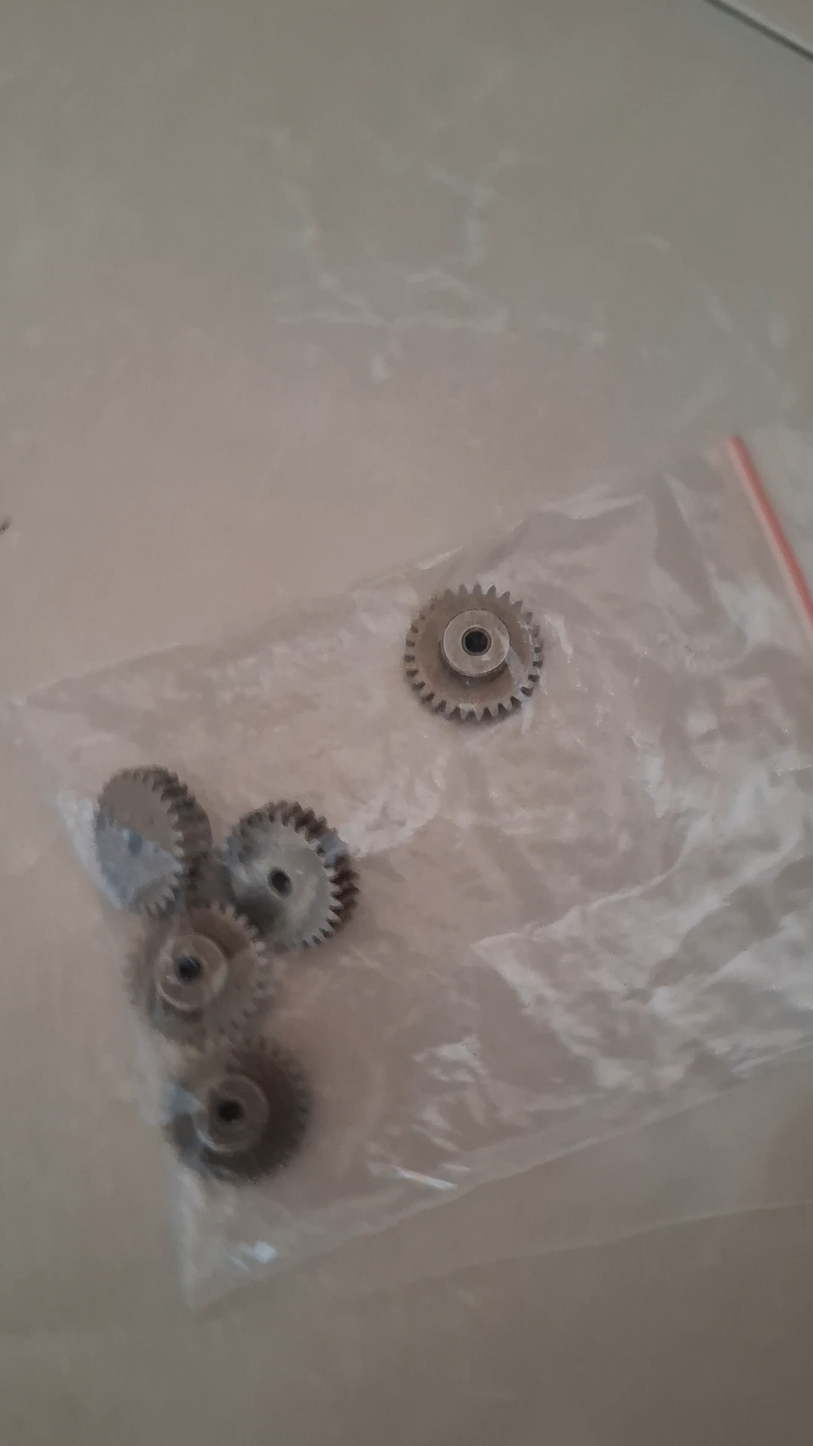spur gear: (129, 903, 273, 1049), (166, 1039, 311, 1182), (222, 802, 358, 949), (405, 585, 542, 720), (94, 768, 212, 917)
